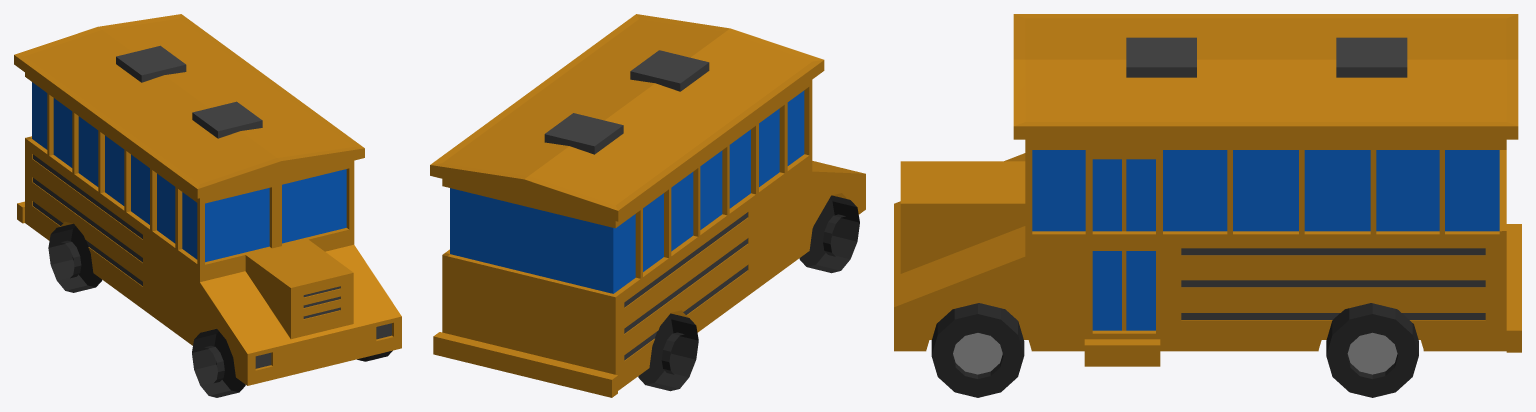
The model's file is bus.glb.
The picture shows the model from 3 angles, left to right: view 1: azimuth 30°, elevation 25°; view 2: azimuth 150°, elevation 25°; view 3: azimuth 270°, elevation 25°; orthographic projection. The views are drawn at different scales.
Parts seen in each view (by area): view 1: Ruote Sx.001_Colore_0; view 2: Ruote Sx.001_Colore_0; view 3: Ruote Sx.001_Colore_0.
Boxes of the visible parts, x1,y1,x2,y2 form: Ruote Sx.001_Colore_0: (14, 14, 401, 397); Ruote Sx.001_Colore_0: (430, 14, 865, 397); Ruote Sx.001_Colore_0: (894, 14, 1521, 397).
Size of the model in its own units: 2.4 by 2.8 by 5.53.
2 materials, 2 textured.
